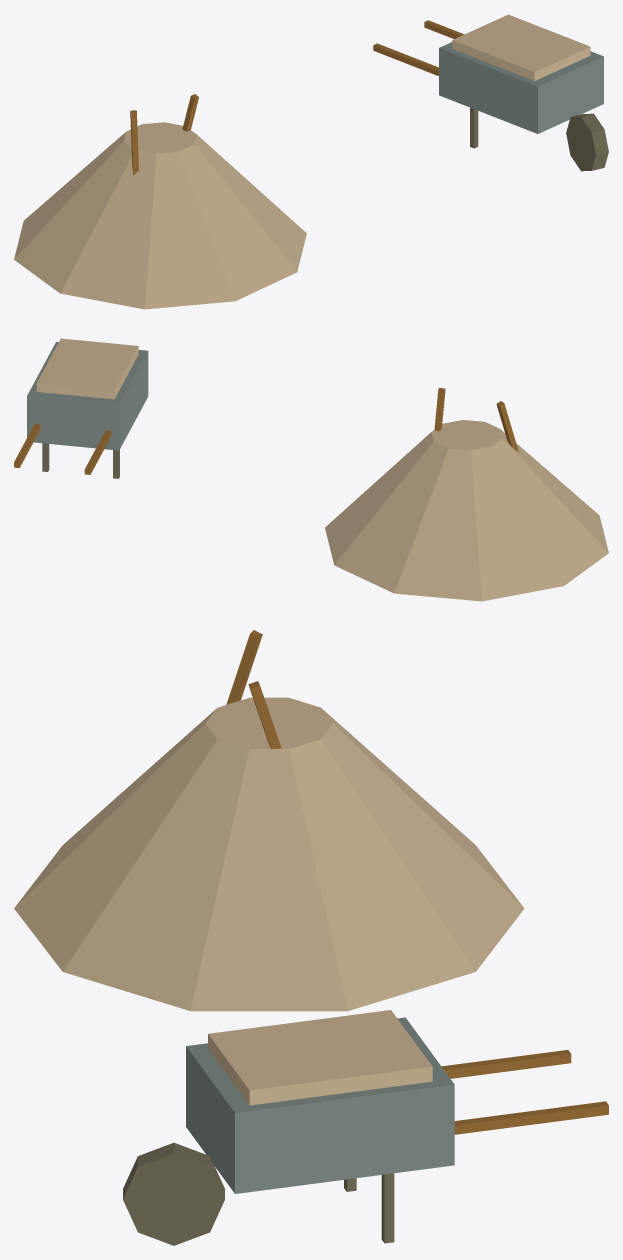
File: SM_ObraHerramientas_v0_10m_LOD0.fbx
3 renders of one model, top to bottom at view 1: azimuth 30°, elevation 25°; view 2: azimuth 150°, elevation 25°; view 3: azimuth 270°, elevation 25°, orthographic. The views are drawn at different scales.
Parts seen in each view (by area): view 1: SM_obra_curso_v11_LOD0; view 2: SM_obra_curso_v11_LOD0; view 3: SM_obra_curso_v11_LOD0.
Part boxes in pixels (x1=…): SM_obra_curso_v11_LOD0: x1=14, y1=14, x2=608, y2=309; SM_obra_curso_v11_LOD0: x1=14, y1=338, x2=608, y2=601; SM_obra_curso_v11_LOD0: x1=14, y1=630, x2=608, y2=1245.
Size of the model in its own units: 4.29 by 1.1 by 2.33.
